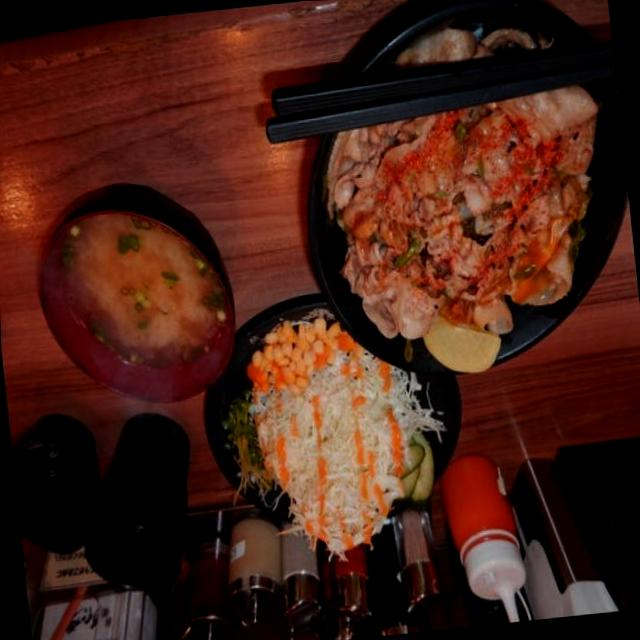Green Salad: (226, 333, 444, 548)
